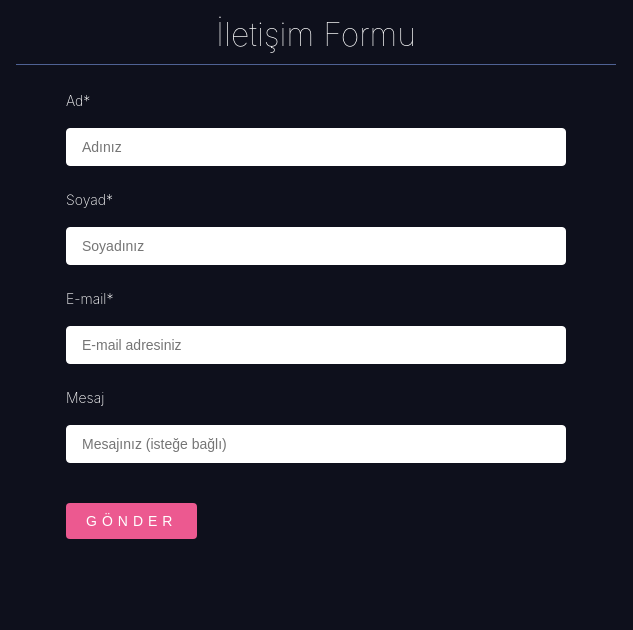
Test: [7] soyad girilmeden gönderilirse "Hata: soyad gereklidir." mesajı render ediliyor
// find by text ve to be in the document ile hata metni ekranda mı kontrol edin
Type "Emirkan" into the field with test id "name-input" at [316, 147], box [66,128,566,166]
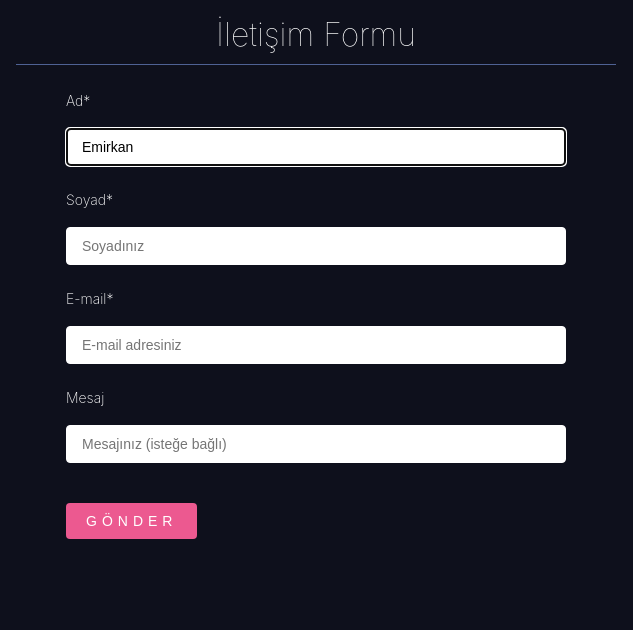
Click the button "Gönder" at [132, 521], box [66,503,198,539]
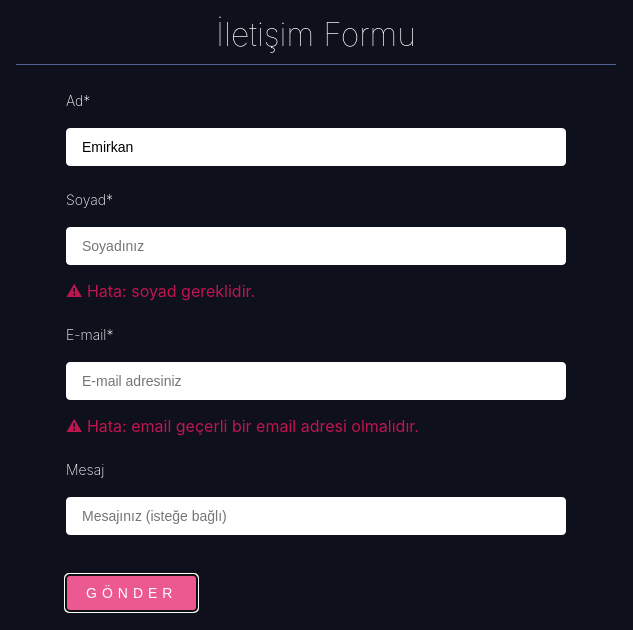
Expected: the text "Hata: soyad gereklidir." is shown, [87,281,255,301]
